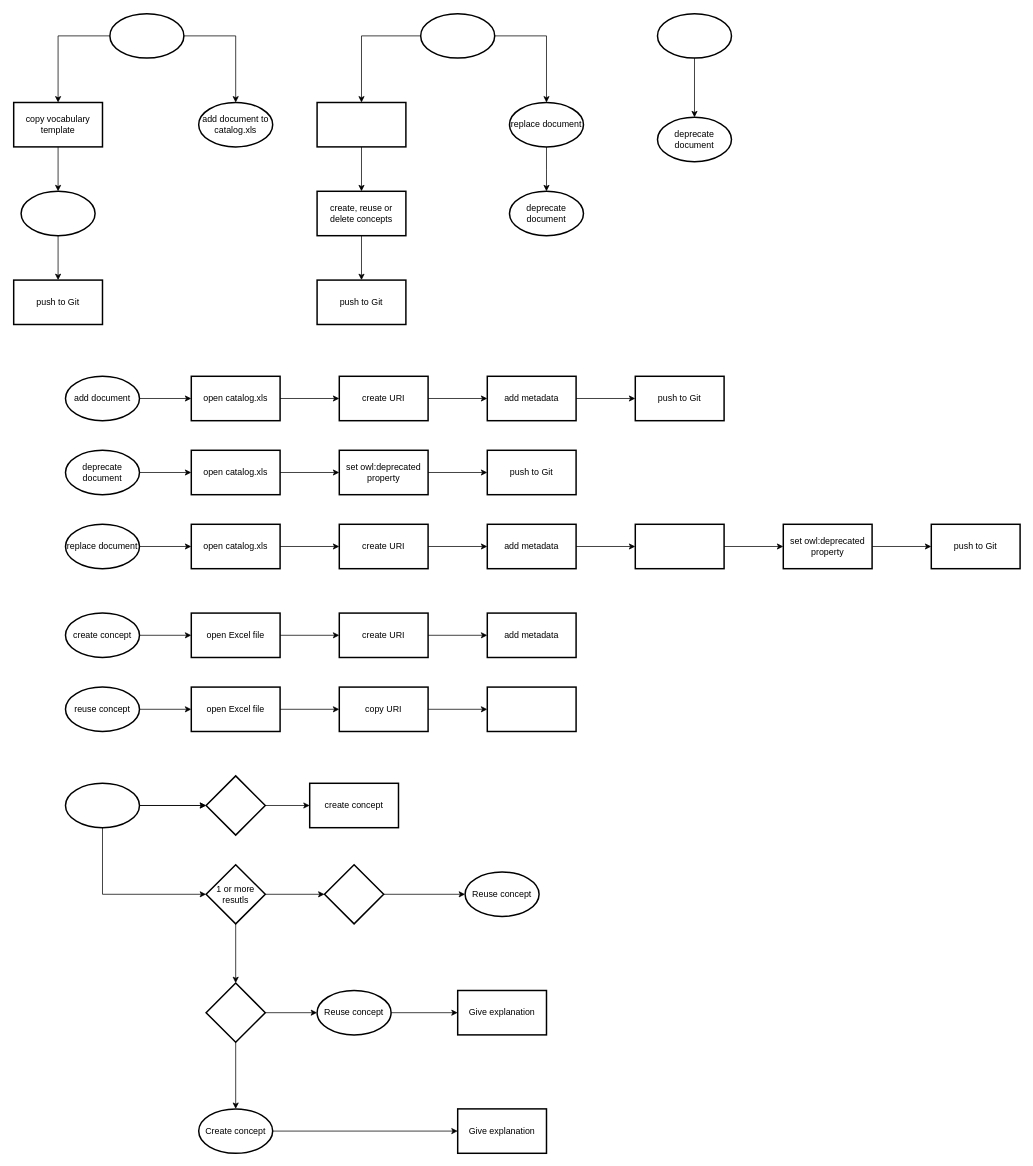
Image size: 1033x1166. Some labels were removed from this diagram. Each missing label, with the centre of its shape:
"copy Excel file" goes at point 361,124.
"create standard" goes at point 146,35.
"deprecate standard" goes at point 694,35.
"existing definition applies" goes at point 235,1012.
"most recent definition in ICS applies" goes at point 353,894.
"No results" goes at point 235,805.
"revise standard" goes at point 457,35.
"search concept" goes at point 102,805.
"search concepts" goes at point 57,213.
"set dc:replacedBy and dc:replaces property" goes at point 679,546.
"set vocab:inDocument property" goes at point 531,709.
